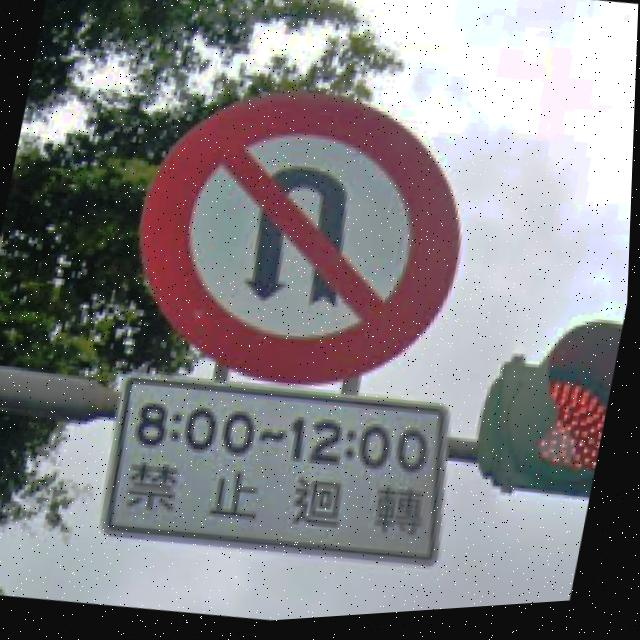nouturn: (143, 96, 461, 390)
